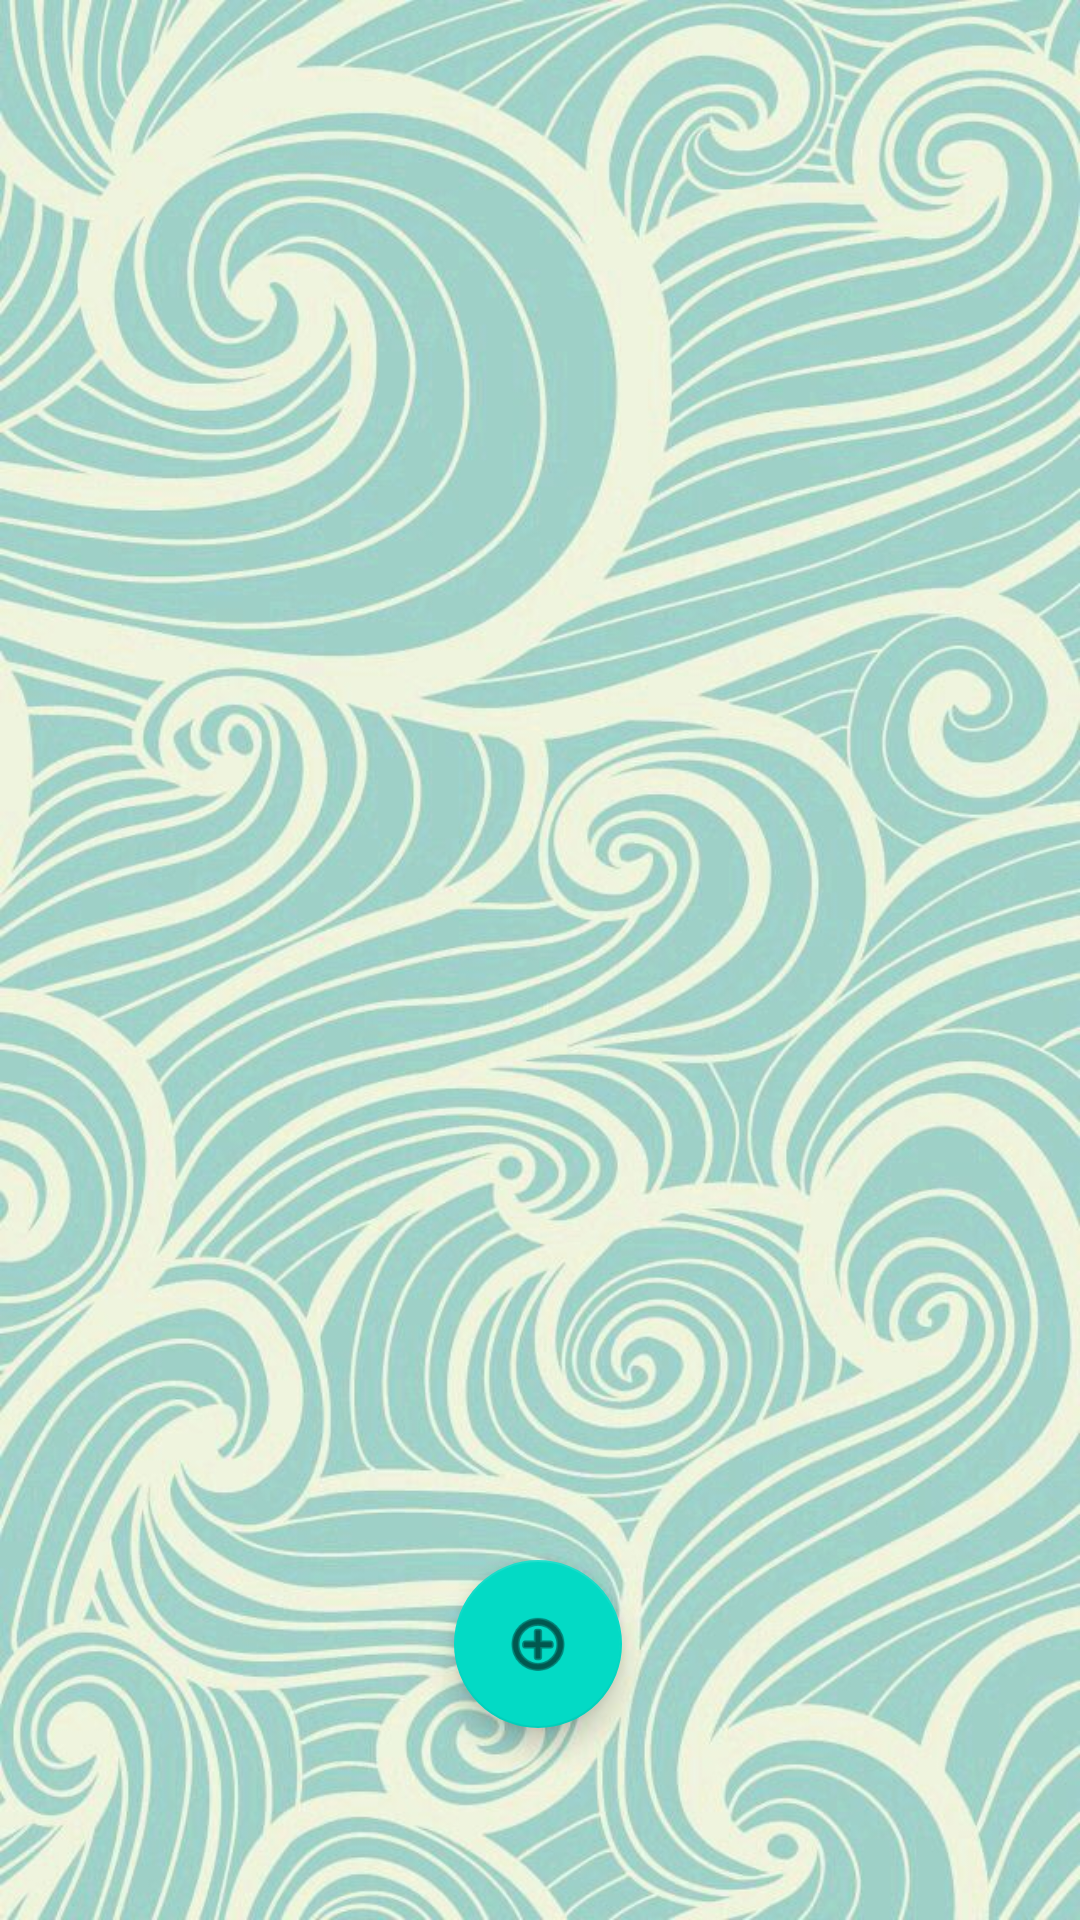

Point at icon controls on the screen. Image size 1080px×1920px, points as [x,y].
add: [538,1644]
